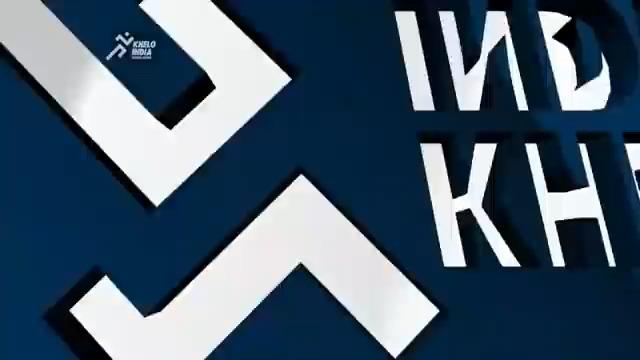Player: (2, 0, 637, 358), (65, 172, 440, 358), (392, 0, 638, 271), (0, 0, 292, 207)
referee: (41, 0, 215, 129)
